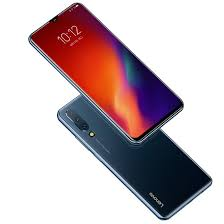lenovo: (28, 2, 189, 146)
